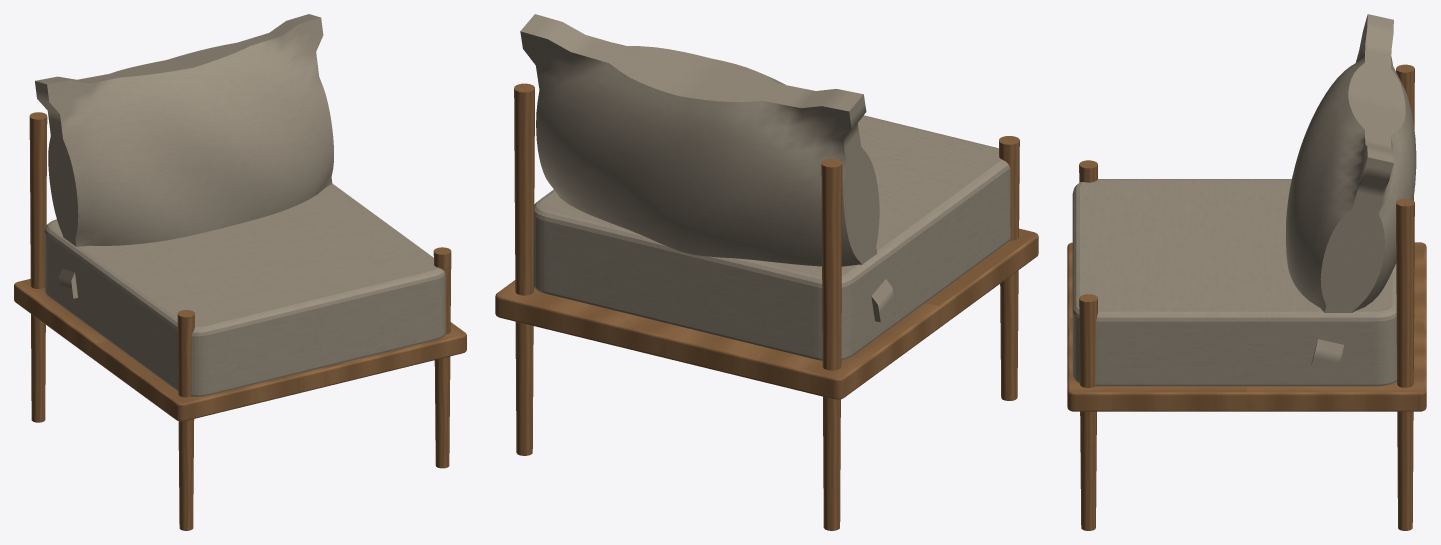
The model's file is curated-lounge-chair.glb.
3 renders of one model, left to right at view 1: azimuth 30°, elevation 25°; view 2: azimuth 150°, elevation 25°; view 3: azimuth 270°, elevation 25°, orthographic. The views are drawn at different scales.
Visible parts, largest first — view 1: LIVING-34_Part_6, LIVING-34_Part_7, LIVING-34_Part_5, LIVING-34_Part_1, LIVING-34_Part_3, LIVING-34_Part_4; view 2: LIVING-34_Part_7, LIVING-34_Part_6, LIVING-34_Part_5, LIVING-34_Part_1, LIVING-34_Part_2, LIVING-34_Part_3; view 3: LIVING-34_Part_6, LIVING-34_Part_7, LIVING-34_Part_5, LIVING-34_Part_2, LIVING-34_Part_4, LIVING-34_Part_1.
Boxes of the visible parts, x1,y1,x2,y2 form: LIVING-34_Part_6: (44, 183, 445, 396); LIVING-34_Part_7: (35, 14, 333, 298); LIVING-34_Part_5: (14, 279, 466, 421); LIVING-34_Part_1: (29, 112, 47, 422); LIVING-34_Part_3: (177, 310, 194, 530); LIVING-34_Part_4: (433, 247, 451, 468); LIVING-34_Part_7: (520, 14, 895, 322); LIVING-34_Part_6: (534, 115, 1010, 360); LIVING-34_Part_5: (495, 228, 1038, 399); LIVING-34_Part_1: (821, 158, 842, 530); LIVING-34_Part_2: (514, 83, 534, 455); LIVING-34_Part_3: (999, 136, 1019, 400); LIVING-34_Part_6: (1072, 179, 1396, 386); LIVING-34_Part_7: (1286, 14, 1416, 371); LIVING-34_Part_5: (1067, 242, 1426, 411); LIVING-34_Part_2: (1396, 198, 1414, 530); LIVING-34_Part_4: (1079, 294, 1097, 530); LIVING-34_Part_1: (1396, 64, 1414, 200).
Bounding box in the file's own units: 0.68 × 0.7844 × 0.68.
2 materials, 2 textured.
